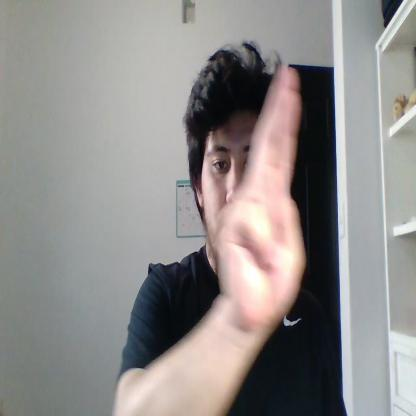R: (218, 68, 306, 327)
